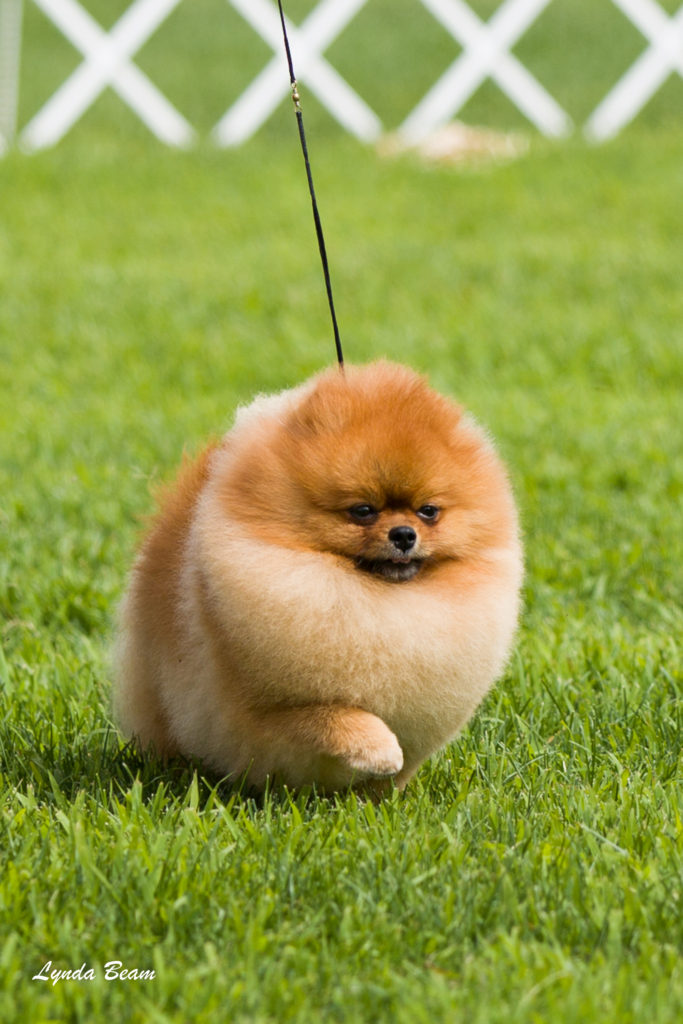pomeranian: (118, 353, 535, 810)
